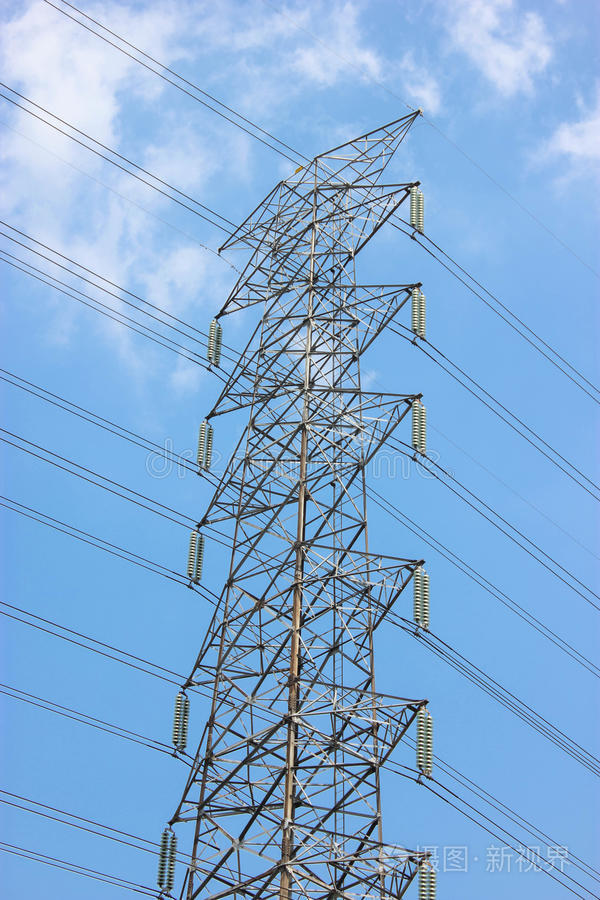insulator: (154, 831, 178, 891), (413, 710, 434, 777), (412, 569, 432, 632), (408, 398, 430, 452), (186, 531, 208, 582), (172, 693, 189, 755), (408, 288, 427, 338), (196, 421, 214, 468), (407, 188, 426, 231), (416, 868, 438, 900), (208, 321, 222, 364)
